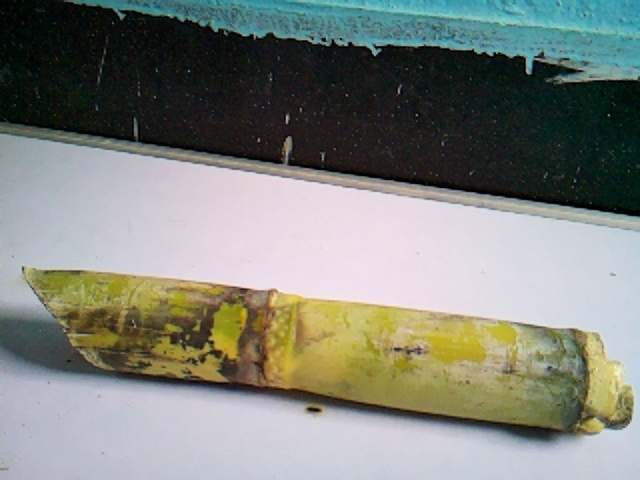Good Sugarcane: (21, 263, 632, 433)
Node: (534, 320, 612, 437), (231, 282, 309, 398)
